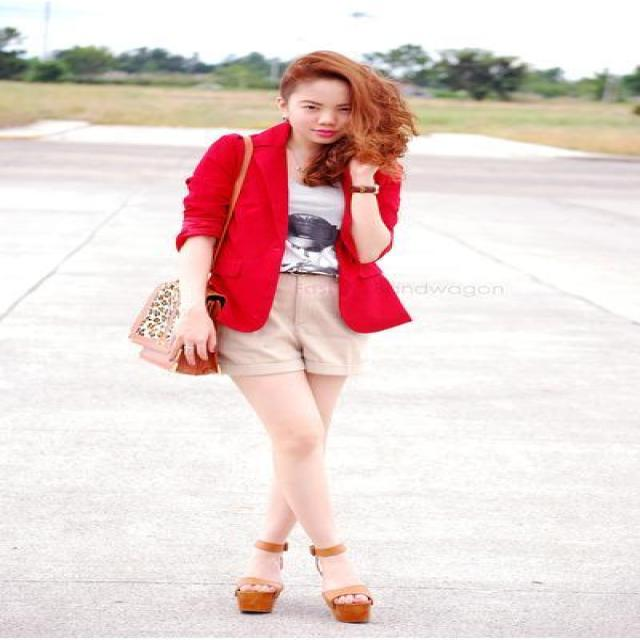bag: (128, 302, 224, 374)
jacket: (176, 119, 410, 333)
shirt: (282, 179, 342, 284)
shoe: (235, 542, 371, 623)
shorts: (206, 273, 364, 384)
